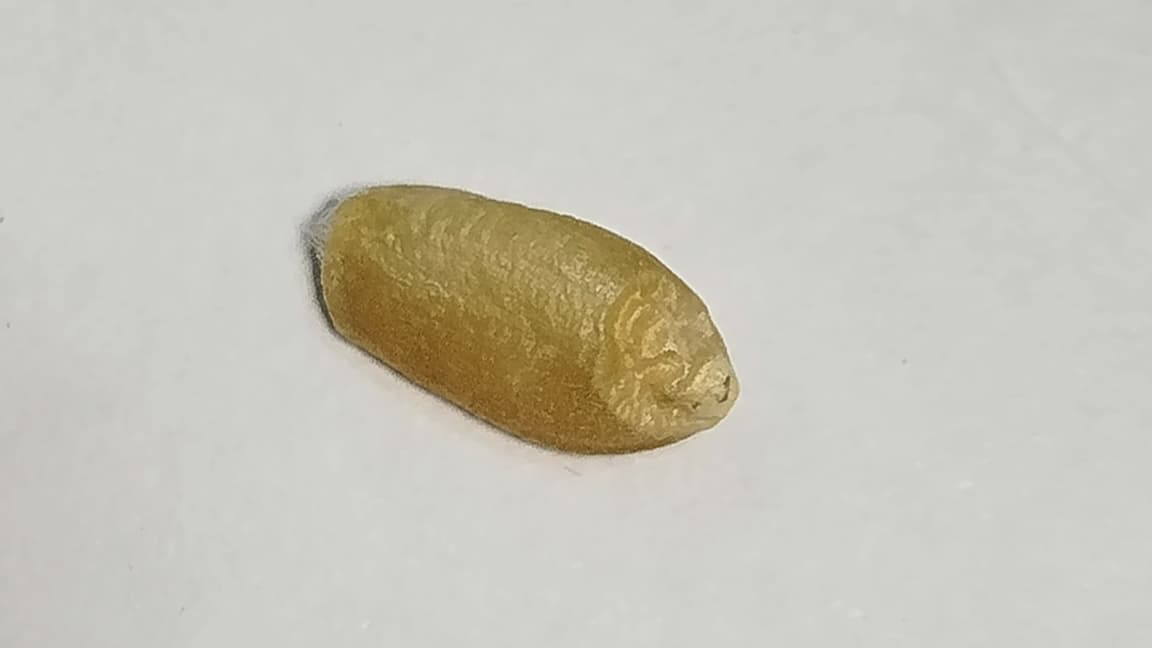healthy: (310, 183, 738, 453)
